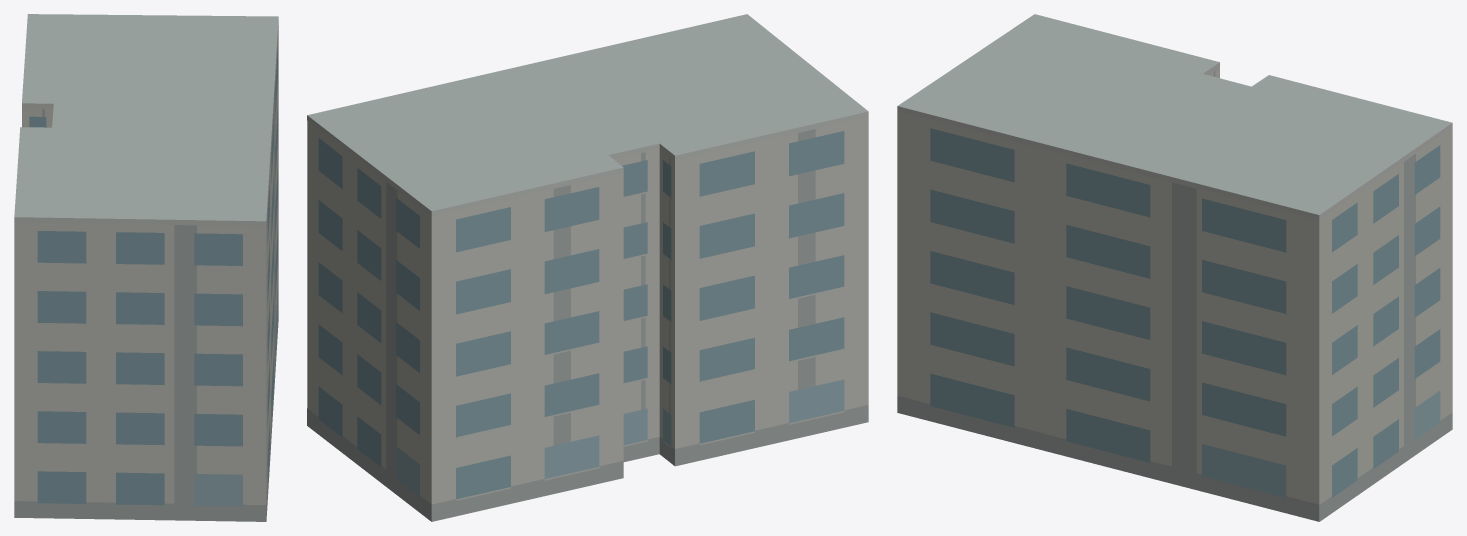
File: survey-upis-32942189.glb
3 views of the same model, side by side, from view 1: azimuth 30°, elevation 25°; view 2: azimuth 150°, elevation 25°; view 3: azimuth 270°, elevation 25° (orthographic). The views are drawn at different scales.
Visible parts, largest first — view 1: survey-upis-32942189.tmp; view 2: survey-upis-32942189.tmp; view 3: survey-upis-32942189.tmp.
Part boxes in pixels (left/top/right/bottom): survey-upis-32942189.tmp: left=14, top=14, right=278, bottom=521; survey-upis-32942189.tmp: left=307, top=14, right=868, bottom=521; survey-upis-32942189.tmp: left=897, top=14, right=1452, bottom=521.
Size of the model in its own units: 19.7 by 14 by 22.97.
